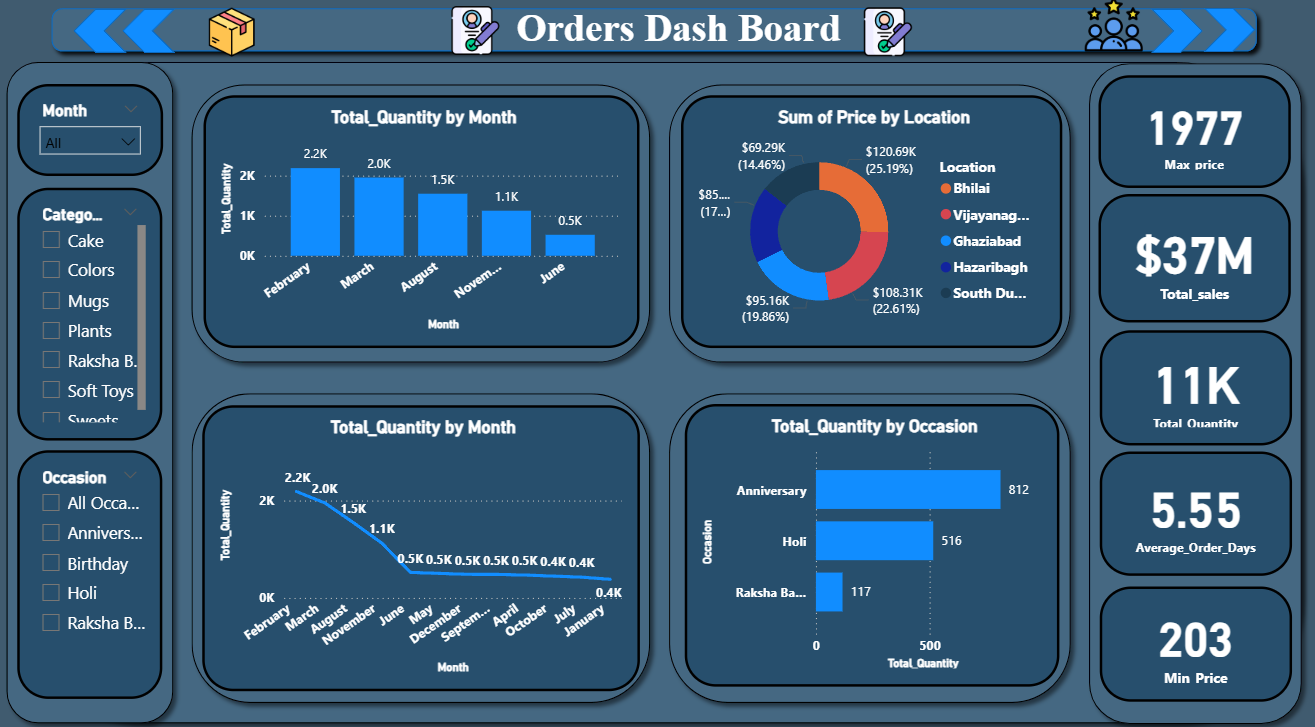

What the dashboard file says about the page in this screenshot:
{"tool":"powerbi","page":{"name":"Orders","canvas":[1280,720],"ordinal":2},"visuals":[{"type":"group","id":"g1","title":"Group 2","box":[5.7,61.4,1268.6,655.7],"z":0},{"type":"shape","box":[16,61.9,1258,656.1],"z":0,"group":"g1"},{"type":"card","fields":{"Values":["DAX TABLE.Average_Order_Days"]},"box":[1070.2,445.5,185.7,120],"z":0,"group":"g2"},{"type":"shape","box":[49.6,9.9,1181.2,59.5],"z":1000},{"type":"shape","box":[1050.5,62,223.3,655.6],"z":1000,"group":"g1"},{"type":"card","fields":{"Values":["DAX TABLE.Total_sales"]},"box":[1068.5,197,185.7,124.3],"z":1000,"group":"g2"},{"type":"textbox","box":[428.6,11.4,480,55.7],"z":2000},{"type":"shape","box":[184.6,82.6,460.6,286.3],"z":2000,"group":"g1"},{"type":"image","box":[438.6,8.6,57.1,62.9],"z":3000},{"type":"shape","box":[645.1,82.6,405.6,286.3],"z":3000,"group":"g1"},{"type":"card","fields":{"Values":["DAX TABLE.Total_Cities"]},"box":[1070.2,575.5,185.7,111.4],"z":3000,"group":"g2"},{"type":"image","box":[837.1,10,57.1,62.9],"z":4000},{"type":"shape","box":[5.7,61.4,178.9,656.2],"z":4000,"group":"g1"},{"type":"card","fields":{"Values":["DAX TABLE.Total_Customers"]},"box":[1069,82.6,185.3,108.7],"z":4000,"group":"g2"},{"type":"image","box":[204.3,11.4,57.1,61.4],"z":5000},{"type":"card","fields":{"Values":["DAX TABLE.Total_Quantity"]},"box":[1070.2,328.4,185.7,111.4],"z":5000,"group":"g2"},{"type":"shape","box":[184.6,380.9,460.6,316.8],"z":5000,"group":"g1"},{"type":"shape","box":[127.1,18.7,51,42.3],"z":6000},{"type":"shape","box":[645.1,380.9,405.6,316.8],"z":6000,"group":"g1"},{"type":"shape","box":[80,19.1,51.3,42.2],"z":7000},{"type":"group","id":"g2","title":"Group 1","box":[1068.5,82.6,187.4,604.4],"z":7000,"group":"g1"},{"type":"image","box":[1050.8,1.7,65.8,65.8],"z":8000},{"type":"slicer","fields":{"Values":["orders.Month"]},"box":[25.4,91.9,140.8,88.8],"z":8000,"group":"g1"},{"type":"shape","box":[1120,19.2,50,42.5],"z":9000},{"type":"columnChart","fields":{"Y":["DAX TABLE.Total_Quantity"],"Category":["orders.Month"]},"box":[204.3,102.5,421.1,243.9],"z":9000,"group":"g1"},{"type":"shape","box":[1170,17.5,50,42.5],"z":10000},{"type":"clusteredBarChart","fields":{"Y":["DAX TABLE.Total_Quantity"],"Category":["orders.Occasion"]},"box":[669.1,400.8,362,273.1],"z":10000,"group":"g1"},{"type":"donutChart","fields":{"Category":["orders.Location"],"Y":["Sum(orders.Price)"]},"box":[665.7,102.8,368.2,243.9],"z":11000,"group":"g1"},{"type":"lineChart","fields":{"Y":["DAX TABLE.Total_Quantity"],"Category":["orders.Month"]},"box":[204,401.4,422,275.9],"z":12000,"group":"g1"},{"type":"slicer","fields":{"Values":["products.Category"]},"box":[25.5,192.1,140.2,243.9],"z":13000,"group":"g1"},{"type":"slicer","fields":{"Values":["orders.Occasion"]},"box":[25.5,445.4,140.2,239.9],"z":14000,"group":"g1"}]}

Visuals, with their boxes in screenshot pixels (x1, y1, x2, y2), scaled from the page's 1280x720 canvas onto the 1315x727 screenshot:
"Group 2" group: [x1=6, y1=62, x2=1309, y2=724]
shape: [x1=16, y1=63, x2=1309, y2=725]
card - DAX TABLE.Average_Order_Days: [x1=1099, y1=450, x2=1290, y2=571]
shape: [x1=51, y1=10, x2=1264, y2=70]
shape: [x1=1079, y1=63, x2=1309, y2=725]
card - DAX TABLE.Total_sales: [x1=1098, y1=199, x2=1288, y2=324]
textbox: [x1=440, y1=12, x2=933, y2=68]
shape: [x1=190, y1=83, x2=663, y2=372]
image: [x1=451, y1=9, x2=509, y2=72]
shape: [x1=663, y1=83, x2=1079, y2=372]
card - DAX TABLE.Total_Cities: [x1=1099, y1=581, x2=1290, y2=694]
image: [x1=860, y1=10, x2=919, y2=74]
shape: [x1=6, y1=62, x2=190, y2=725]
card - DAX TABLE.Total_Customers: [x1=1098, y1=83, x2=1289, y2=193]
image: [x1=210, y1=12, x2=269, y2=74]
card - DAX TABLE.Total_Quantity: [x1=1099, y1=332, x2=1290, y2=444]
shape: [x1=190, y1=385, x2=663, y2=704]
shape: [x1=131, y1=19, x2=183, y2=62]
shape: [x1=663, y1=385, x2=1079, y2=704]
shape: [x1=82, y1=19, x2=135, y2=62]
"Group 1" group: [x1=1098, y1=83, x2=1290, y2=694]
image: [x1=1080, y1=2, x2=1147, y2=68]
slicer - orders.Month: [x1=26, y1=93, x2=171, y2=182]
shape: [x1=1151, y1=19, x2=1202, y2=62]
columnChart - DAX TABLE.Total_Quantity x orders.Month: [x1=210, y1=103, x2=643, y2=350]
shape: [x1=1202, y1=18, x2=1253, y2=61]
clusteredBarChart - DAX TABLE.Total_Quantity x orders.Occasion: [x1=687, y1=405, x2=1059, y2=680]
donutChart - orders.Location x Sum(orders.Price): [x1=684, y1=104, x2=1062, y2=350]
lineChart - DAX TABLE.Total_Quantity x orders.Month: [x1=210, y1=405, x2=643, y2=684]
slicer - products.Category: [x1=26, y1=194, x2=170, y2=440]
slicer - orders.Occasion: [x1=26, y1=450, x2=170, y2=692]
